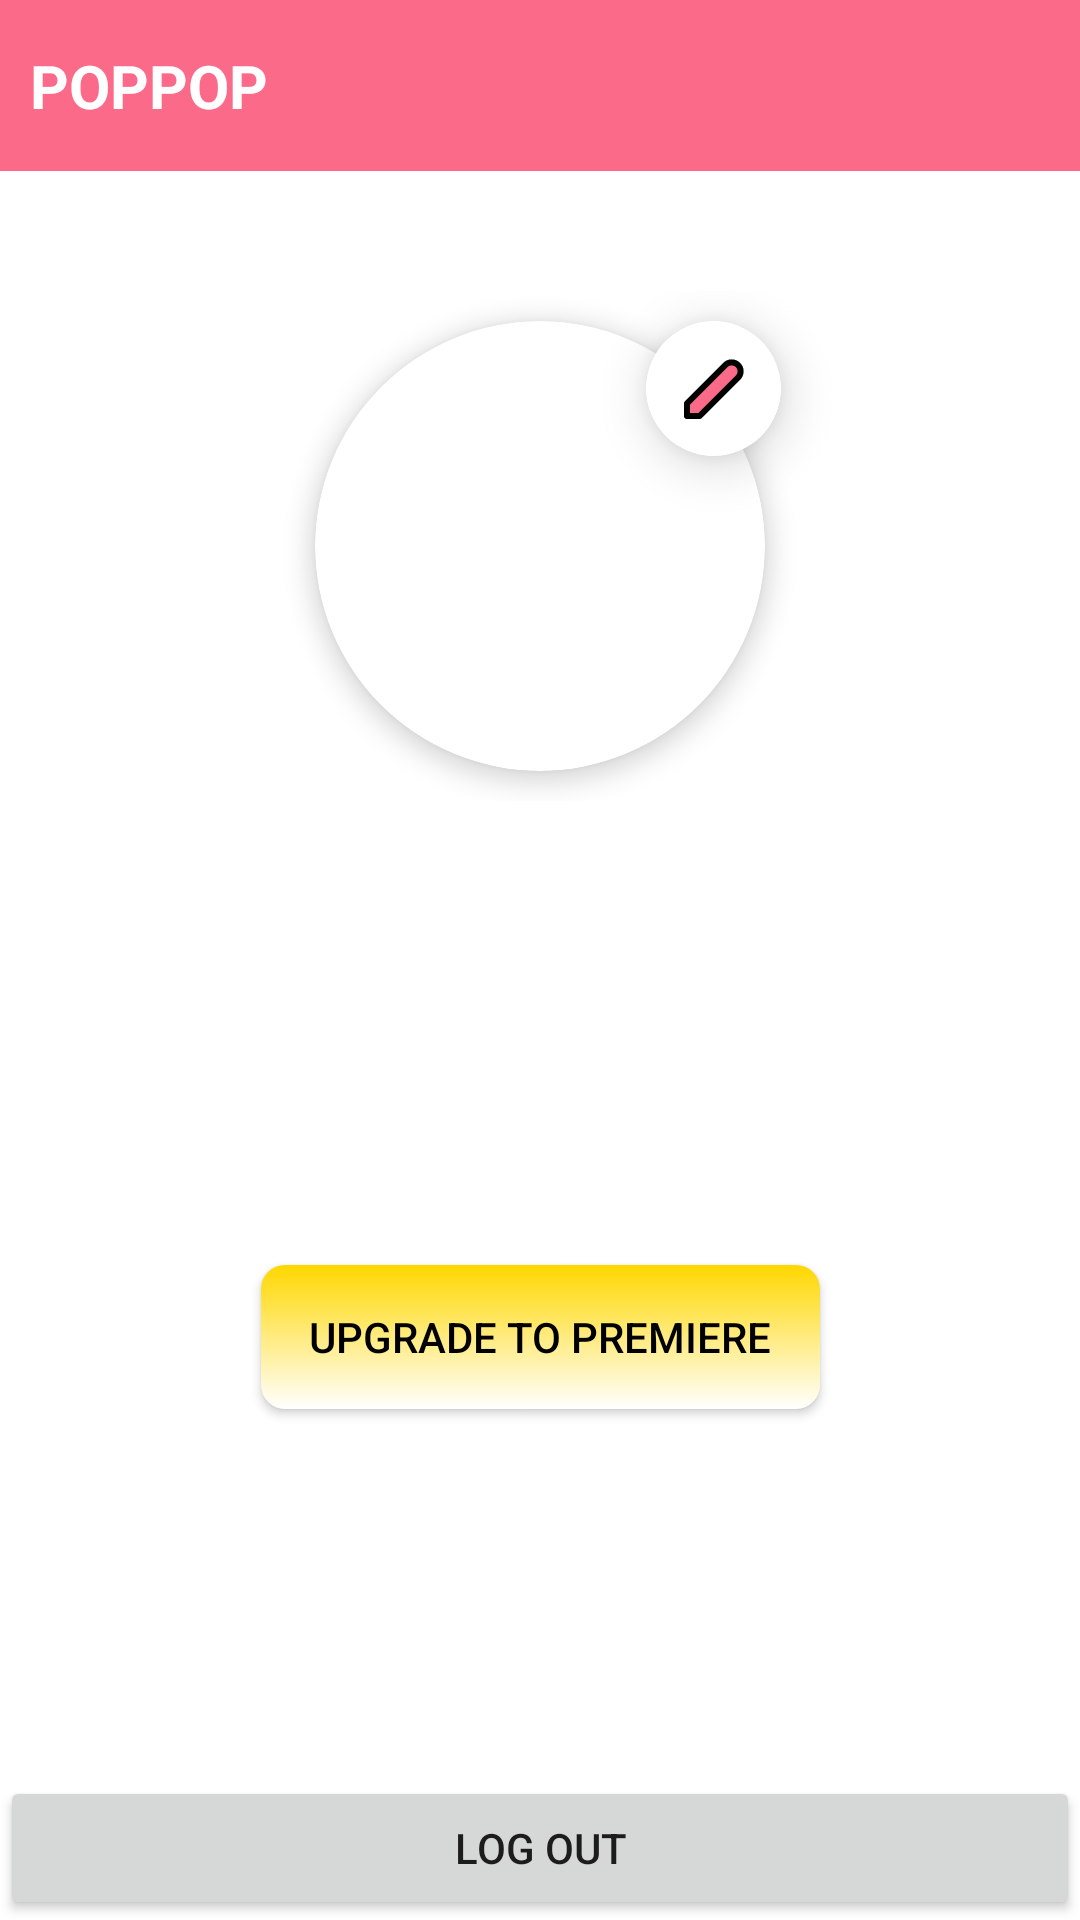

Where to tap for icons on this 1080*1920 app screen, as [x,y]:
edit: [713,388]
